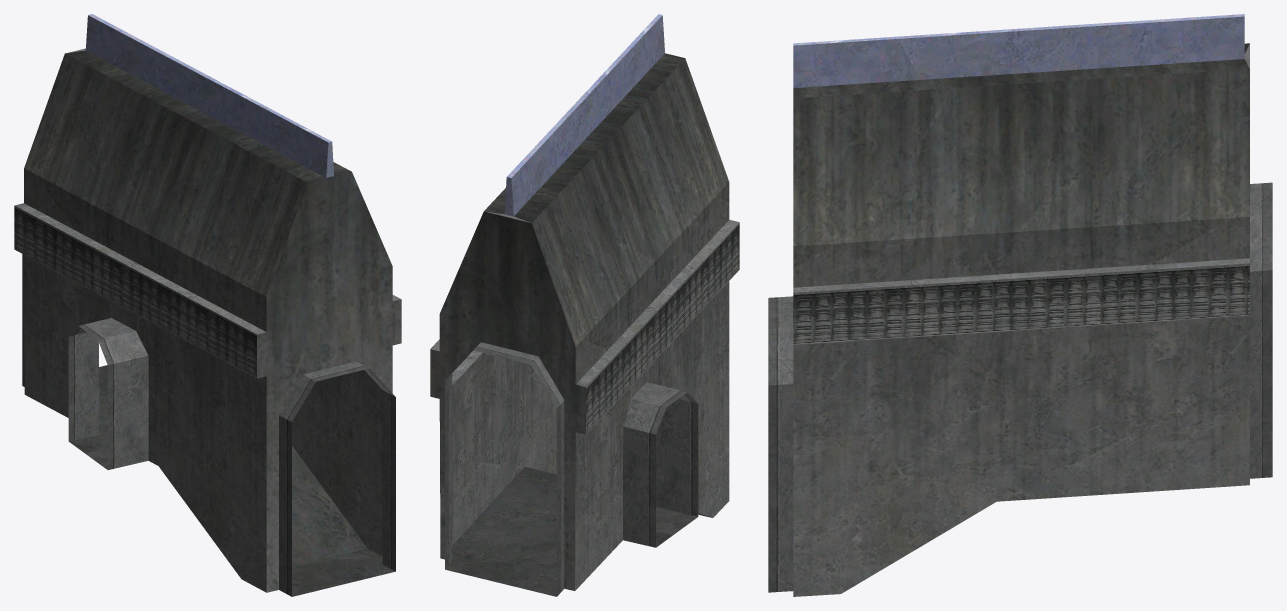
Rendered from thm_yavn_jedi_enclave_dark_r13_hallwaya3_mesh.fbx.
3 renders of one model, left to right at view 1: azimuth 30°, elevation 25°; view 2: azimuth 150°, elevation 25°; view 3: azimuth 270°, elevation 25°, orthographic. The views are drawn at different scales.
Parts seen in each view (by area): view 1: mesh_node; view 2: mesh_node; view 3: mesh_node.
Part boxes in pixels (<box>): mesh_node: <box>14,14,401,596</box>; mesh_node: <box>430,14,739,596</box>; mesh_node: <box>768,14,1272,596</box>.
Bounding box in the file's own units: 5.99 × 12.47 × 11.04.
